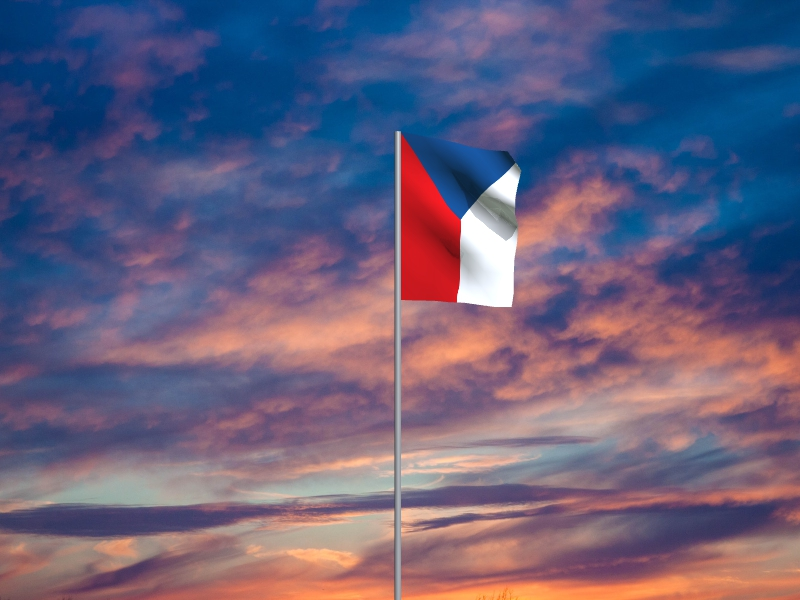cz: (402, 133, 522, 309)
